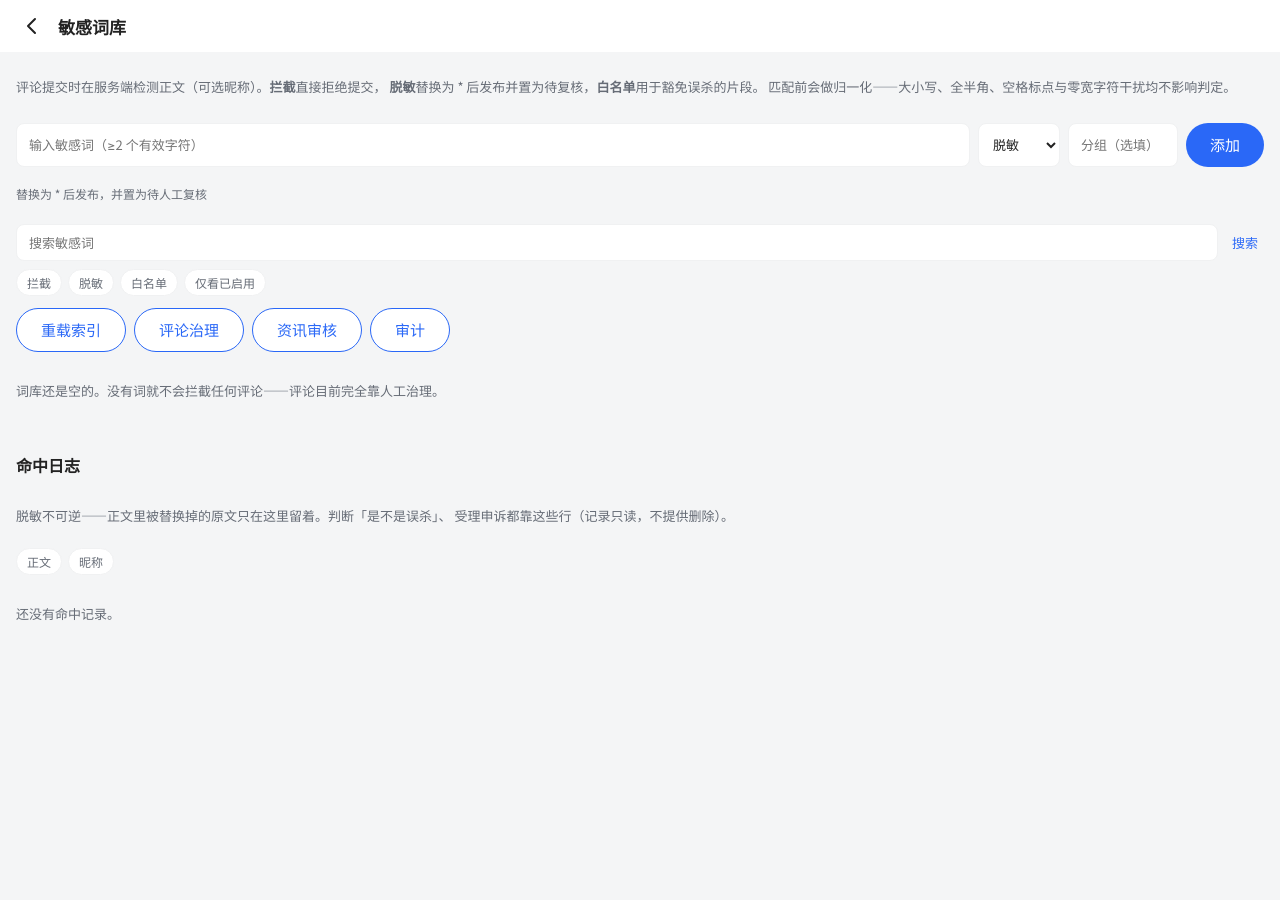
Test case: views/AdminWords 筛选 › 筛选无结果时提示清除筛选
Click the button "拦截" at x=39, y=282, box [16,269,62,296]
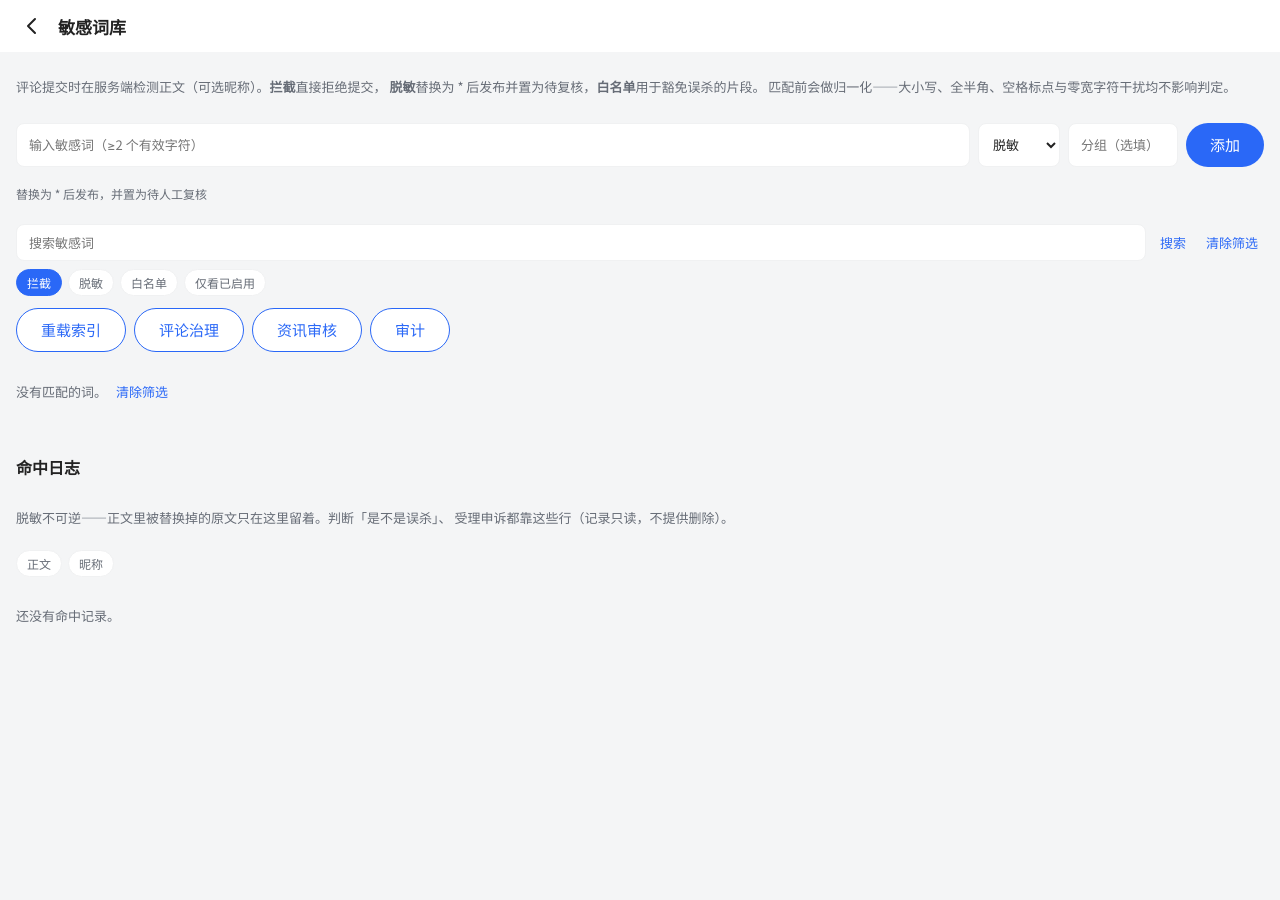
Expected: the text "没有匹配的词" is shown, [16,382,110,401]
